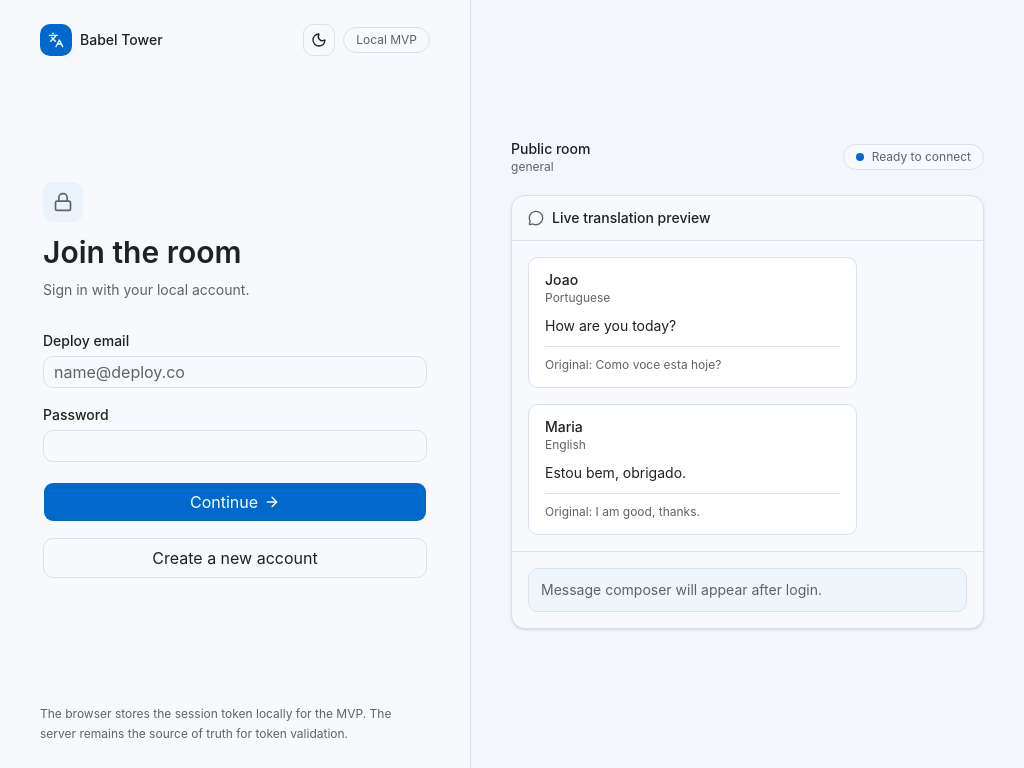
Test case: App › shows a readable message when credentials are invalid
In the field labelled "Deploy email": (235, 372) [43,356,427,388], type "wrong@deploy.co"
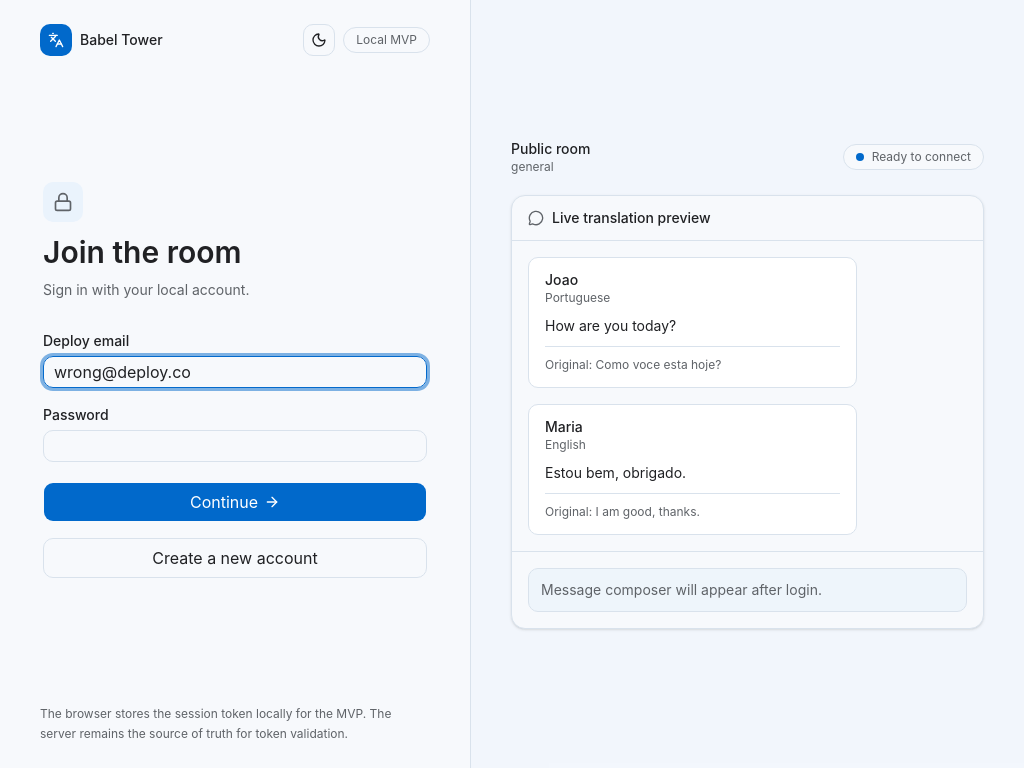
In the password field labelled "Password": (235, 446) [43,430,427,462], type "wrong-pass"
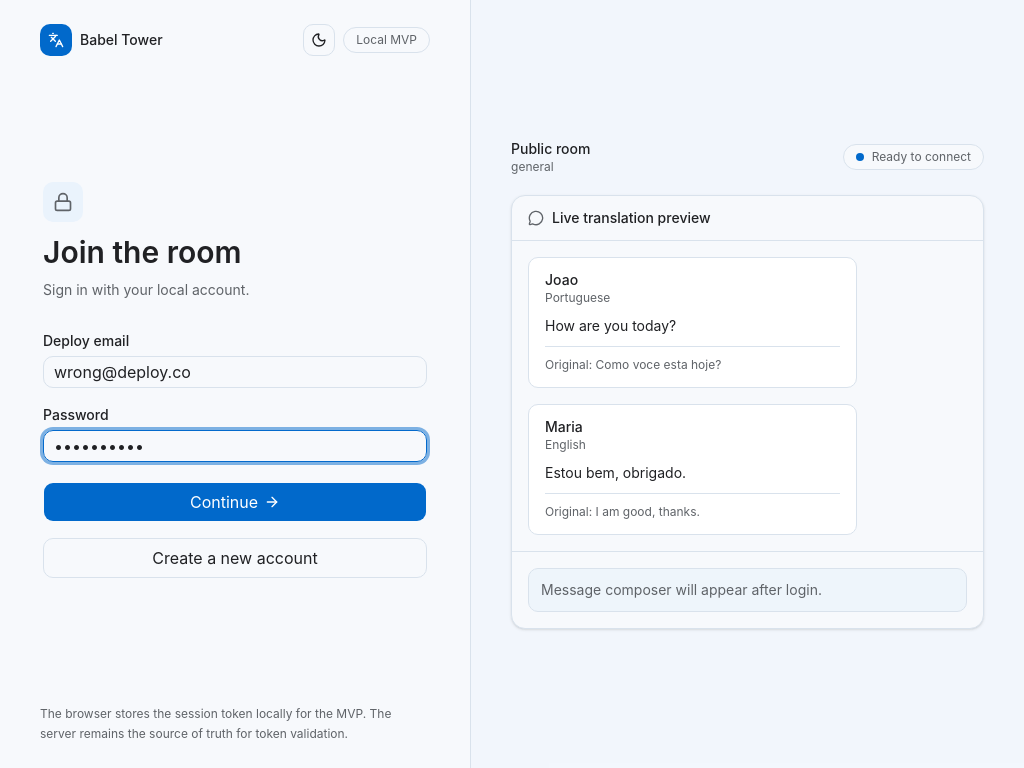
Click the button "Continue": (235, 502) [43,482,427,522]
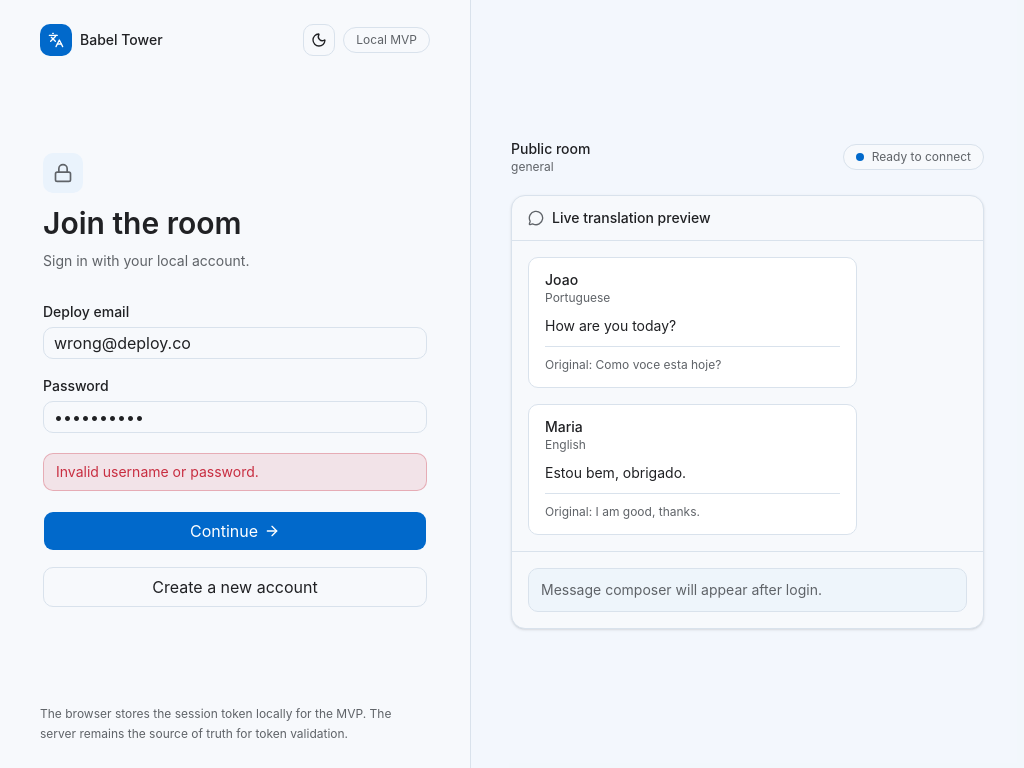
expect the text "Invalid username or password." is shown: met, box [43,453,427,491]
